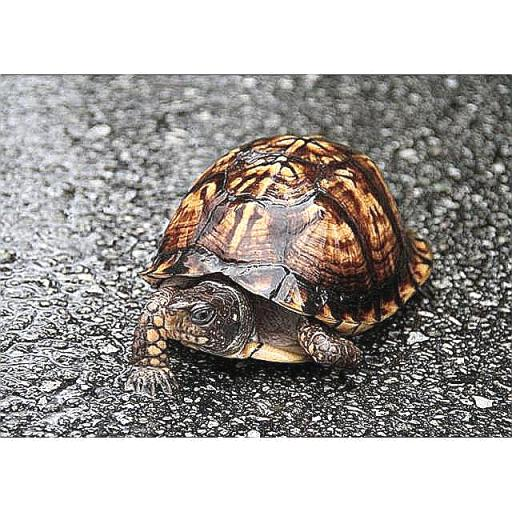turtle: (108, 130, 442, 398)
